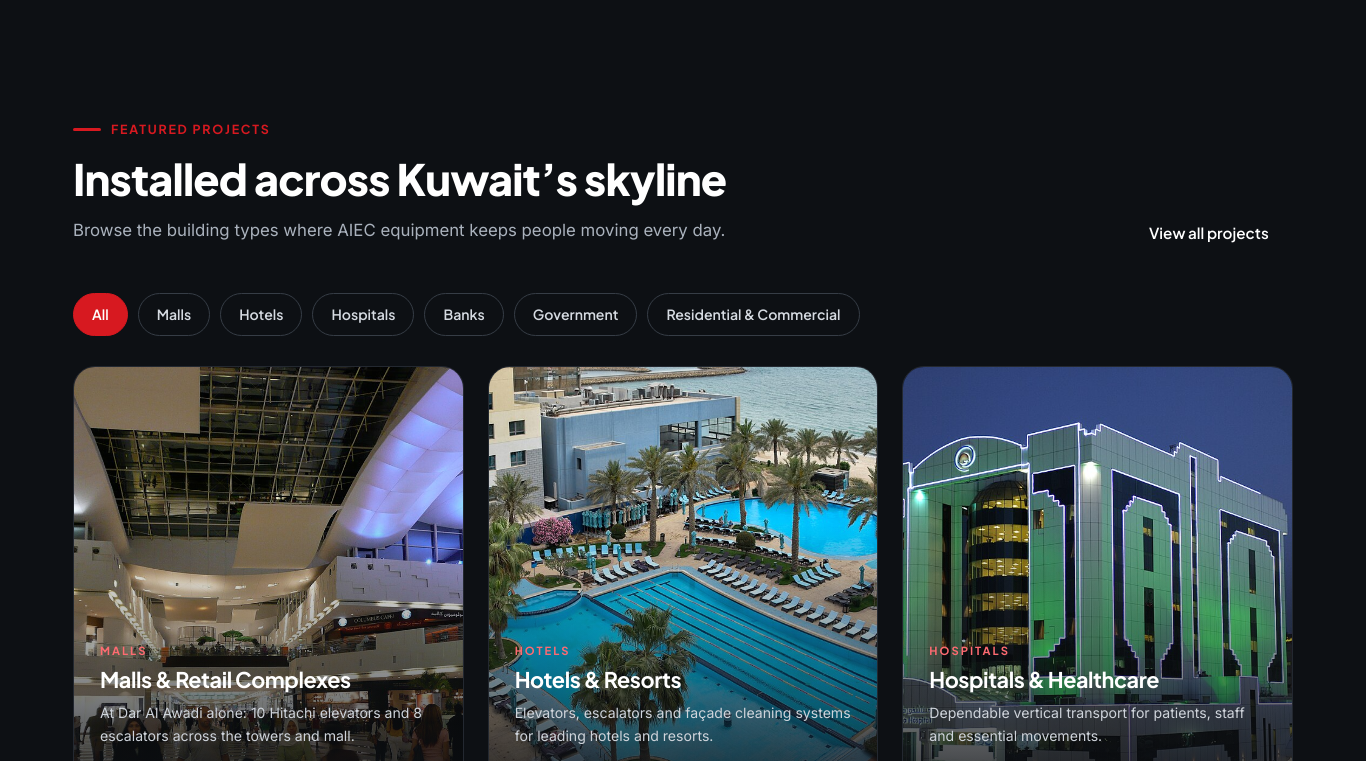
Test: Projects › chip Hotels shows only the matching card
The width and height of the screenshot is (1366, 761).
Click the tab "Hotels".
click(261, 315)  # box [220,293,302,336]
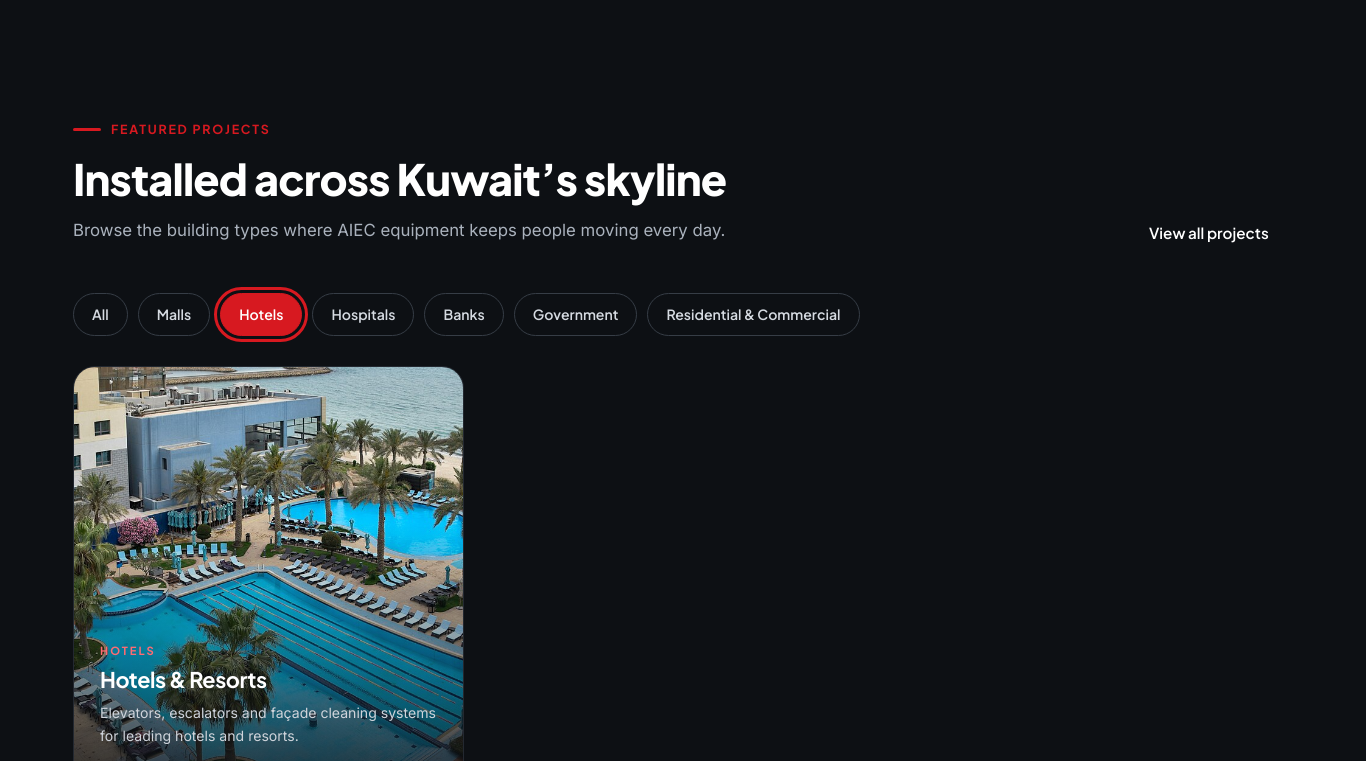
Now the tab "Hotels" is selected, box [220,293,302,336]
Now the tab "Hotels" has class "on", box [220,293,302,336]
Now the tab "All" is not selected, box [73,293,128,336]
